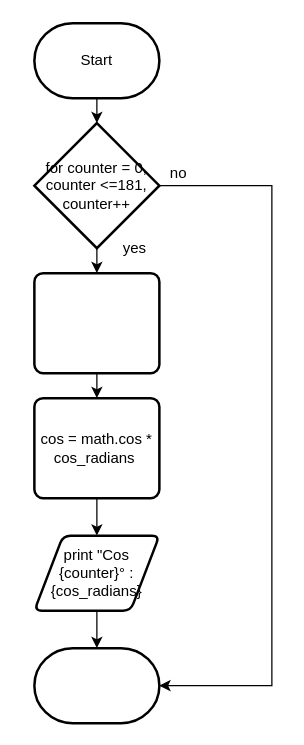
Image size: 304x745. Some labels were removed from this diagram. Each missing label, with the centre of its shape:
"cos_radians = counter(math.radians)" belongs at point (96, 322).
"Stop" belongs at point (96, 685).
